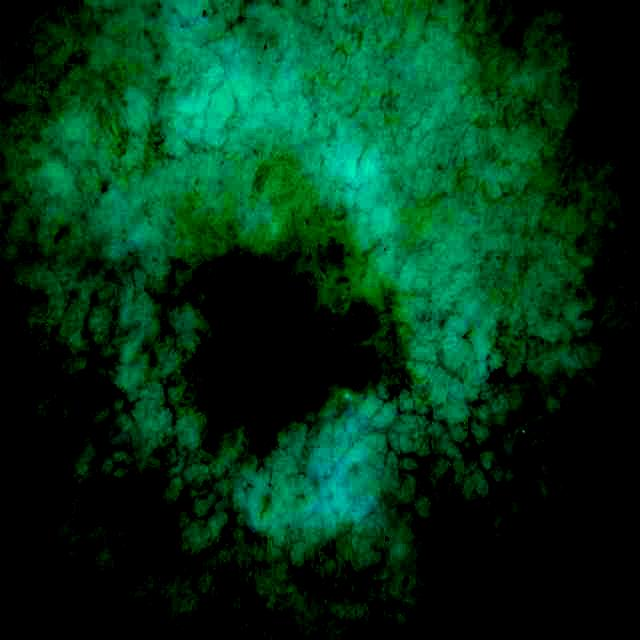BKL: (192, 236, 397, 449)
